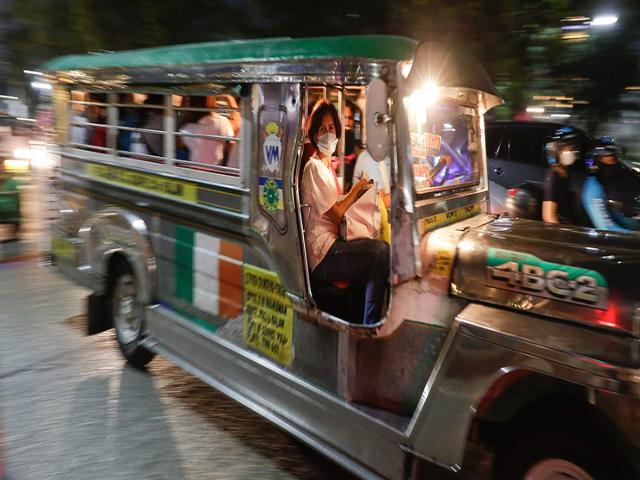jeepney: (34, 18, 640, 480)
